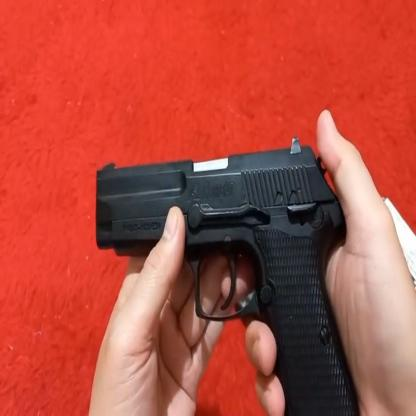handgun: (91, 148, 360, 416)
